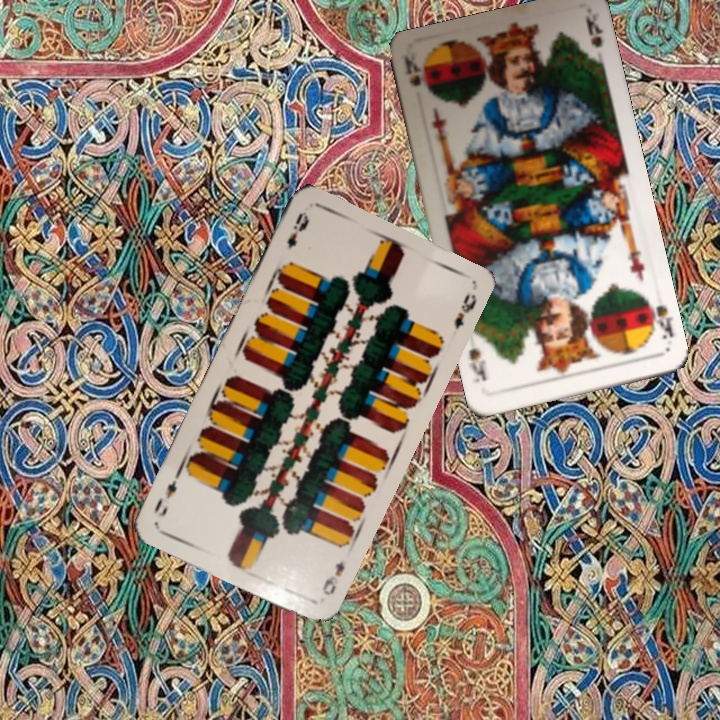E9: (283, 207, 312, 251), (318, 557, 348, 598)
SK: (642, 297, 677, 342), (400, 53, 424, 89)
